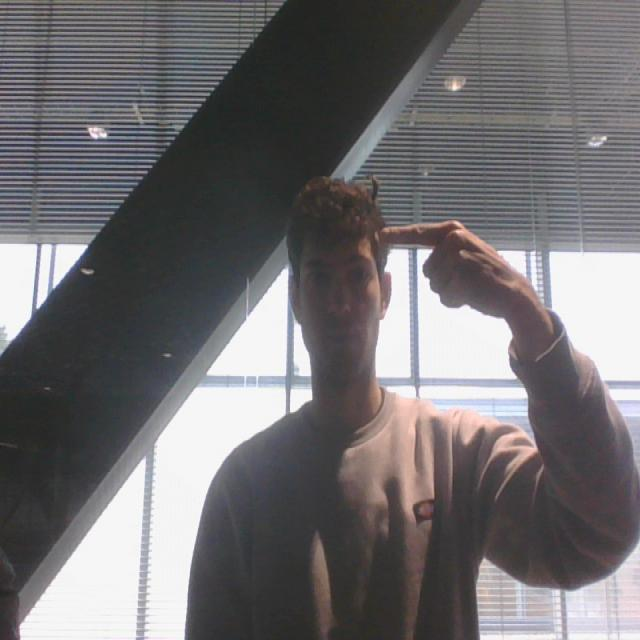left: (375, 205, 542, 328)
